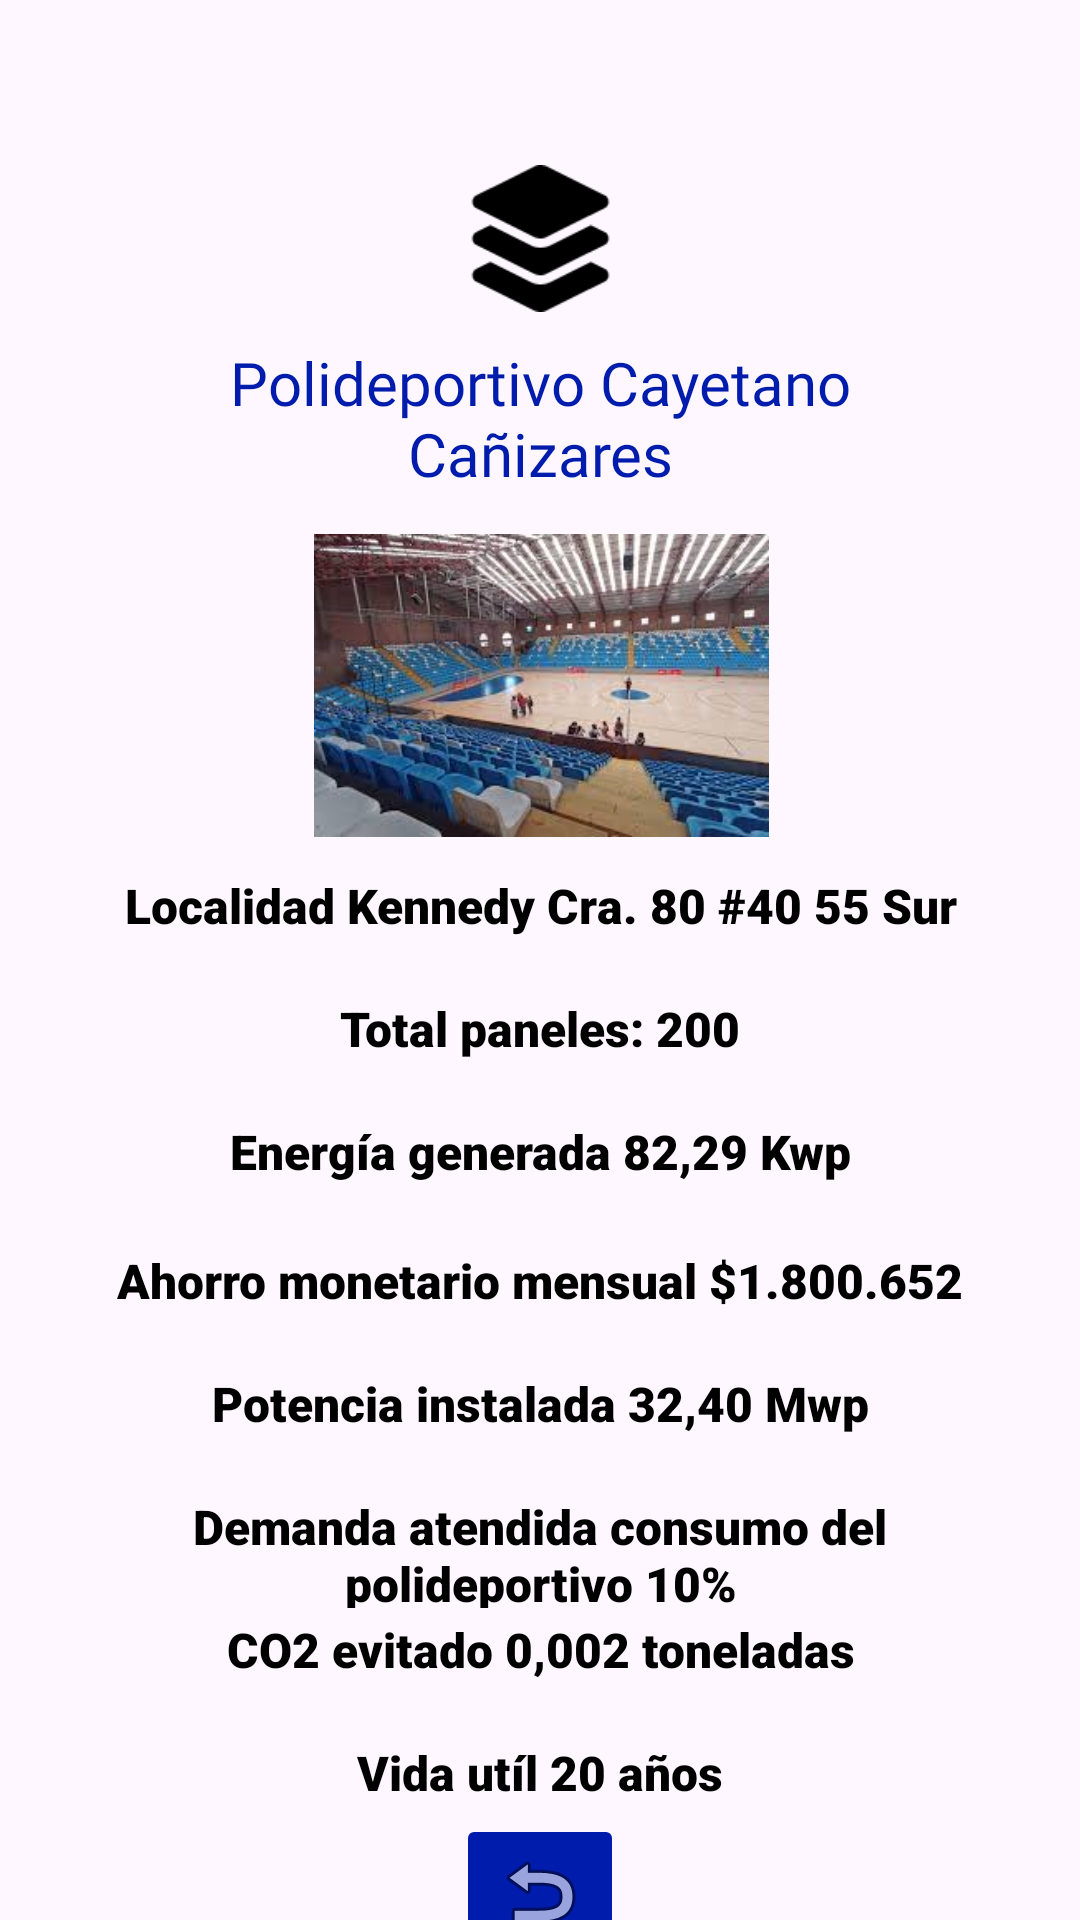

Where icons sit on this 1080x1920 app screen, as box=[x1, y1, x2, y2]:
categorias: box=[471, 165, 610, 312]
